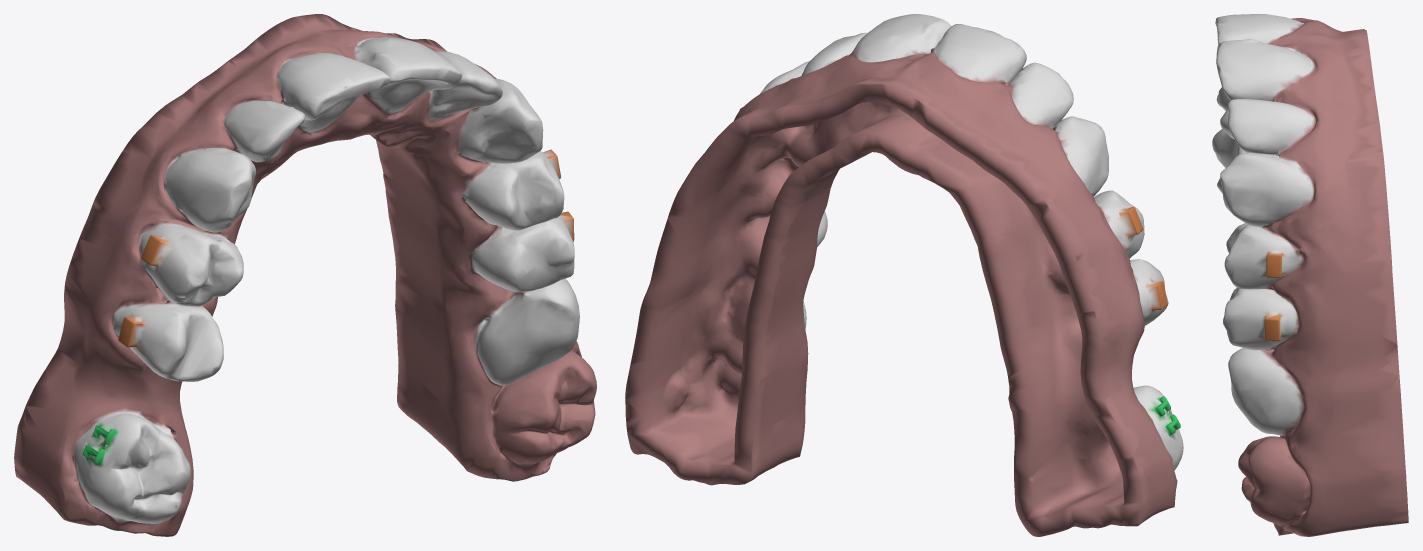
File: upper-model-11.glb
3 renders of one model, left to right at view 1: azimuth 30°, elevation 25°; view 2: azimuth 150°, elevation 25°; view 3: azimuth 270°, elevation 25°, orthographic. The views are drawn at different scales.
Parts seen in each view (by area): view 1: 11; view 2: 11; view 3: 11.
Boxes of the visible parts, x1,y1,x2,y2 form: 11: (14, 14, 596, 536); 11: (625, 14, 1183, 536); 11: (1212, 14, 1408, 536).
Size of the model in its own units: 57.11 by 48.65 by 20.64.
